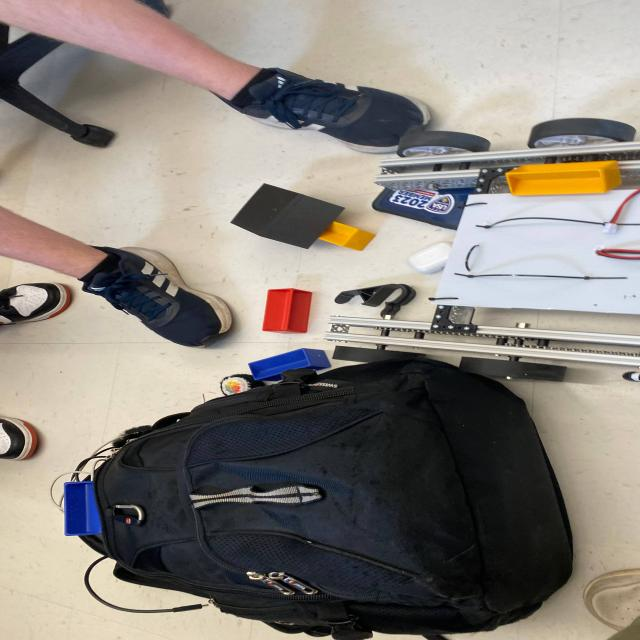blue-specimen: (247, 348, 331, 382), (64, 482, 102, 535)
red-specimen: (262, 288, 312, 334)
yellow-specimen: (505, 161, 623, 195), (316, 221, 377, 251)
